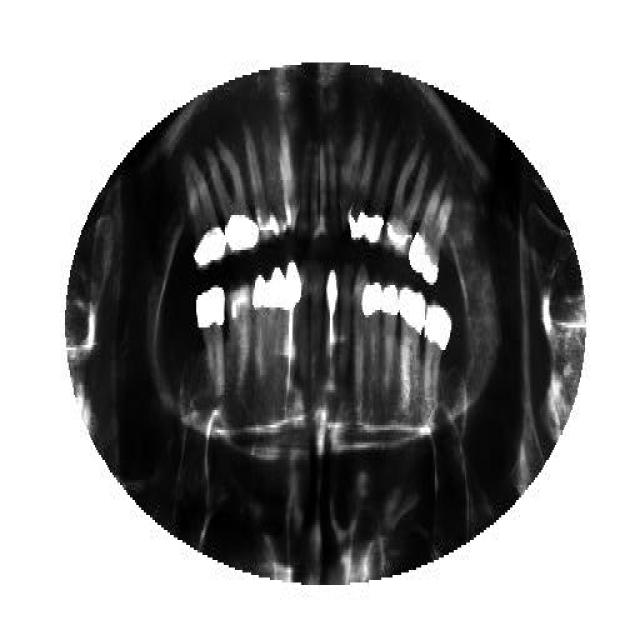Fillings: (210, 143, 259, 255), (349, 130, 396, 240), (408, 180, 454, 285), (389, 142, 429, 252), (186, 160, 225, 270), (399, 288, 429, 418), (422, 300, 452, 418), (196, 288, 228, 398), (379, 288, 399, 408), (270, 267, 289, 385), (361, 285, 381, 397), (252, 275, 272, 383)
Implant: (285, 262, 301, 398), (325, 265, 339, 370)
